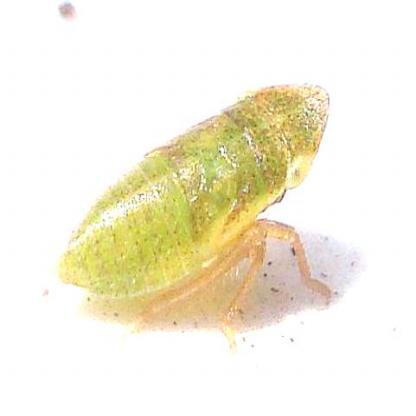green-leafhopper: (58, 80, 333, 332)
